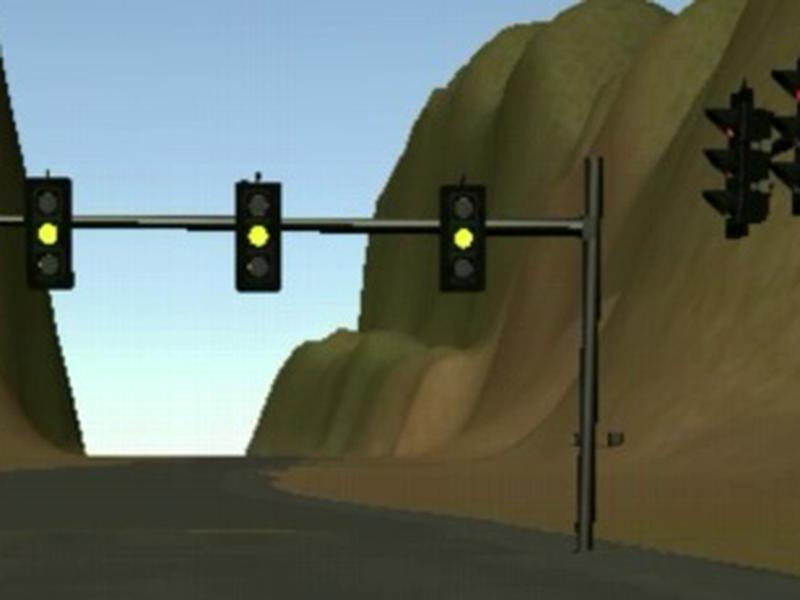Yellow: (22, 176, 75, 290), (235, 179, 284, 293), (438, 183, 487, 294)
